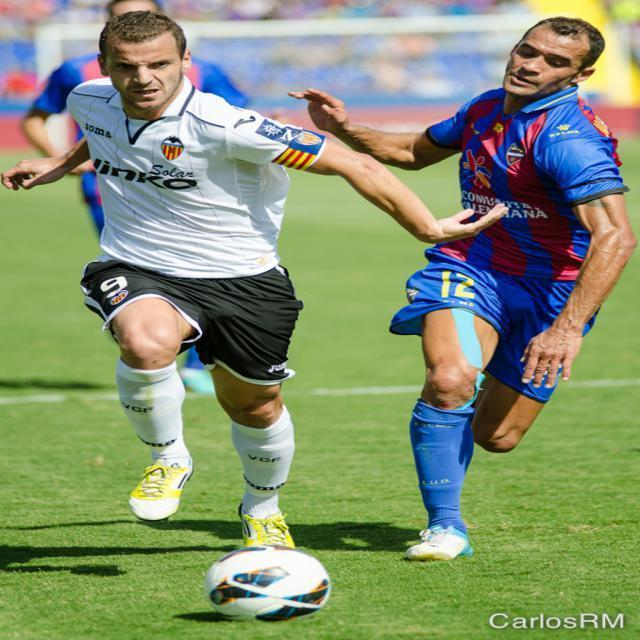ball: (205, 545, 332, 622)
